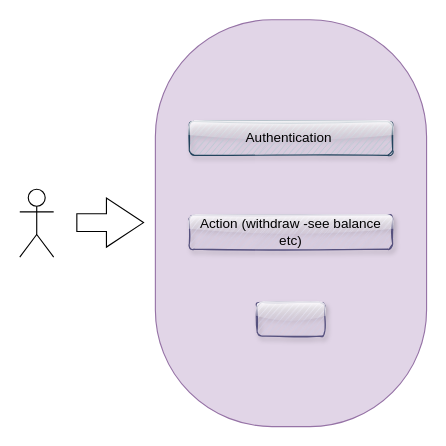
Some shapes in this 446 by 446 pixel diagram are drawn without their labels. The centre of each missing label's shape, as x and y in pixels:
Act on user input: the point at 291,320
Actor: the point at 36,222
